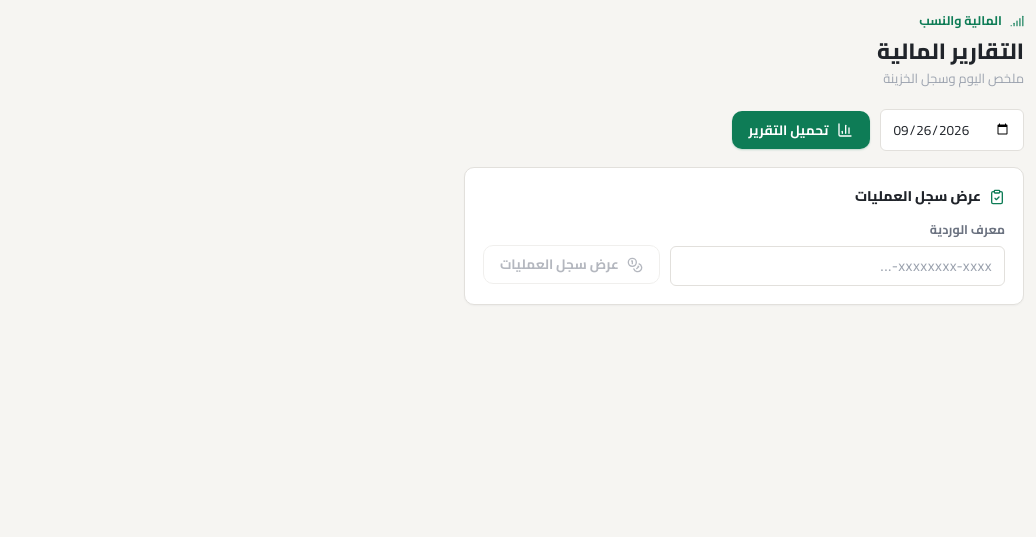
Test case: ReportsPage (OperationsPage mode="reports") › loads and renders the daily report metrics
Type "2026-09-06" into the date field named "تحميل التقرير" at (952, 130), box x1=880 y1=109 x2=1024 y2=151
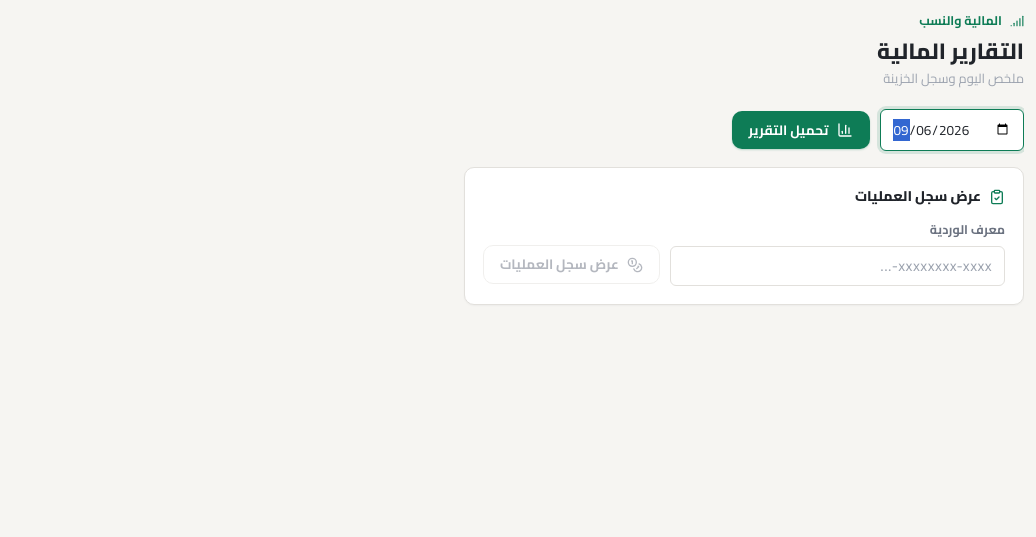
Click the button "تحميل التقرير" at (801, 130), box x1=732 y1=110 x2=870 y2=149
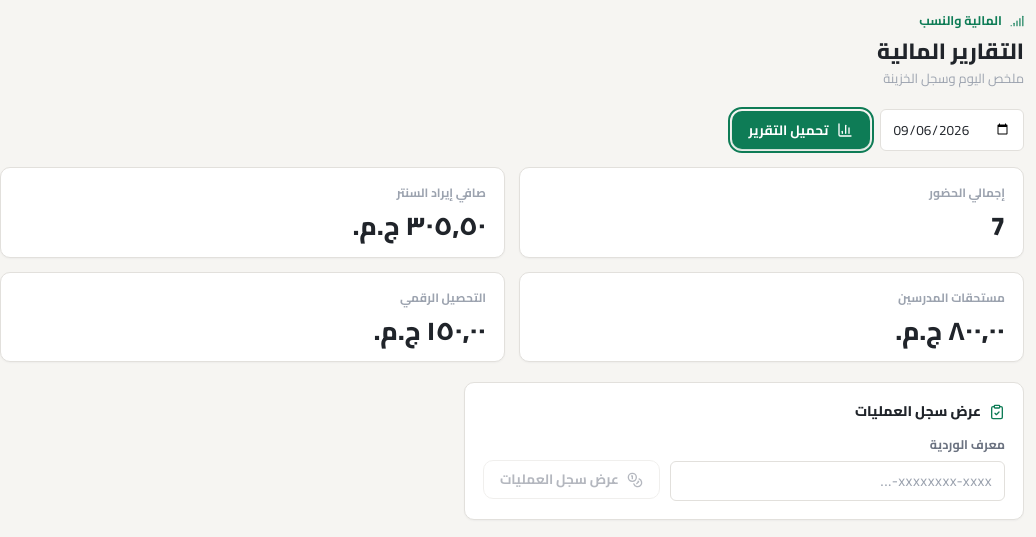
Check: the text "7" is shown, box x1=991 y1=201 x2=1005 y2=250
